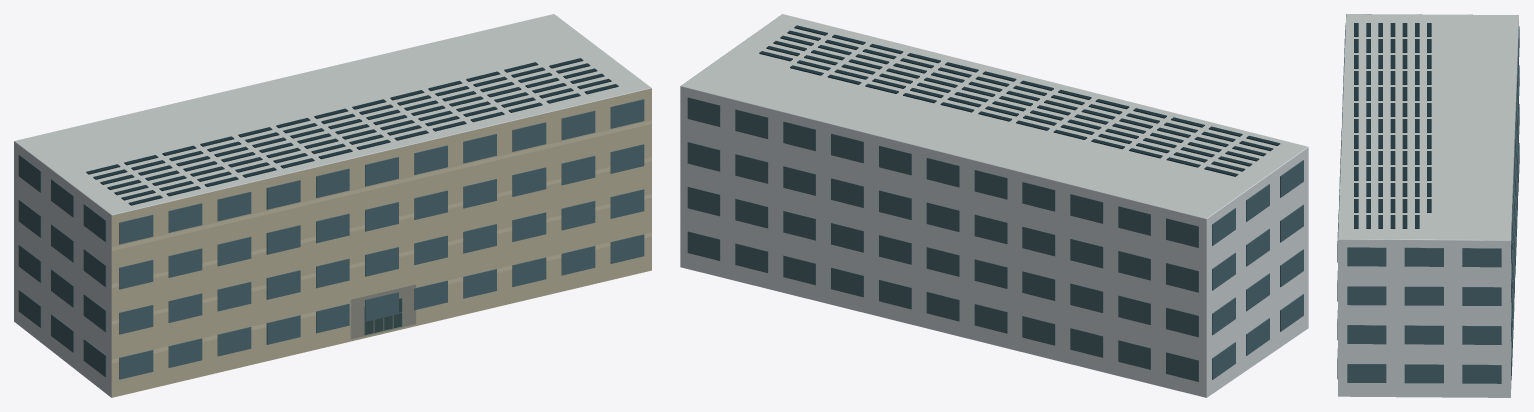
File: intact.glb
The picture shows the model from 3 angles, left to right: view 1: azimuth 30°, elevation 25°; view 2: azimuth 150°, elevation 25°; view 3: azimuth 270°, elevation 25°; orthographic projection. The views are drawn at different scales.
Visible parts, largest first — view 1: SM_eng7_Intact_00, SM_eng7_Intact_01, SM_eng7_Intact_02; view 2: SM_eng7_Intact_00, SM_eng7_Intact_01, SM_eng7_Intact_02; view 3: SM_eng7_Intact_00, SM_eng7_Intact_01, SM_eng7_Intact_02.
Part boxes in pixels (x1,y1,x2,y2): SM_eng7_Intact_00: (14, 14, 651, 397); SM_eng7_Intact_01: (18, 99, 644, 379); SM_eng7_Intact_02: (86, 58, 618, 205); SM_eng7_Intact_00: (680, 14, 1308, 397); SM_eng7_Intact_01: (687, 97, 1303, 381); SM_eng7_Intact_02: (759, 25, 1280, 176); SM_eng7_Intact_00: (1338, 14, 1518, 397); SM_eng7_Intact_01: (1337, 25, 1519, 383); SM_eng7_Intact_02: (1354, 23, 1431, 228).
Bounding box in the file's own units: 2.2 × 0.7169 × 0.7464.
Materials: 5 (1 with a texture image).
